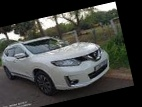car: (0, 23, 115, 106)
